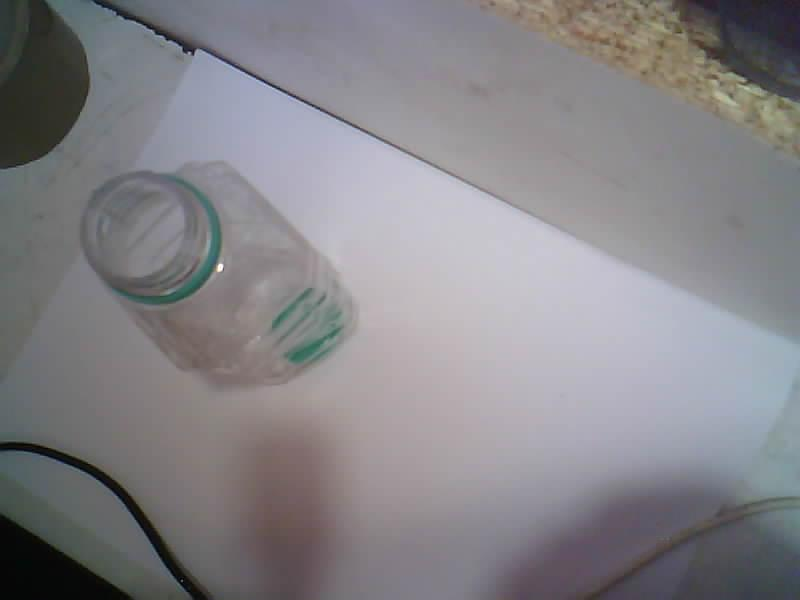non-biodegradable: (81, 162, 355, 382)
